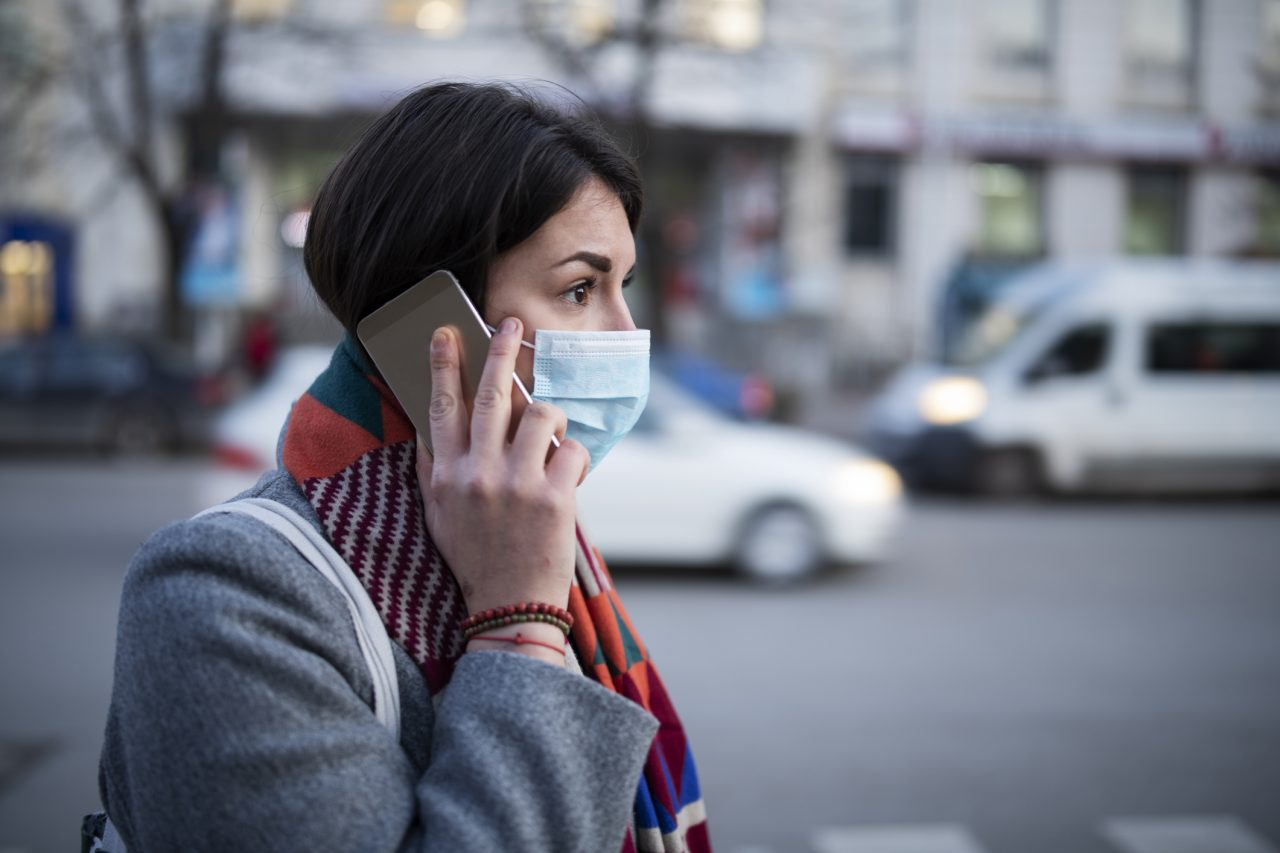surgical: (505, 304, 655, 491)
